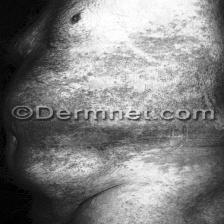Non-Cancerous Skin Condition: (16, 54, 224, 173)
